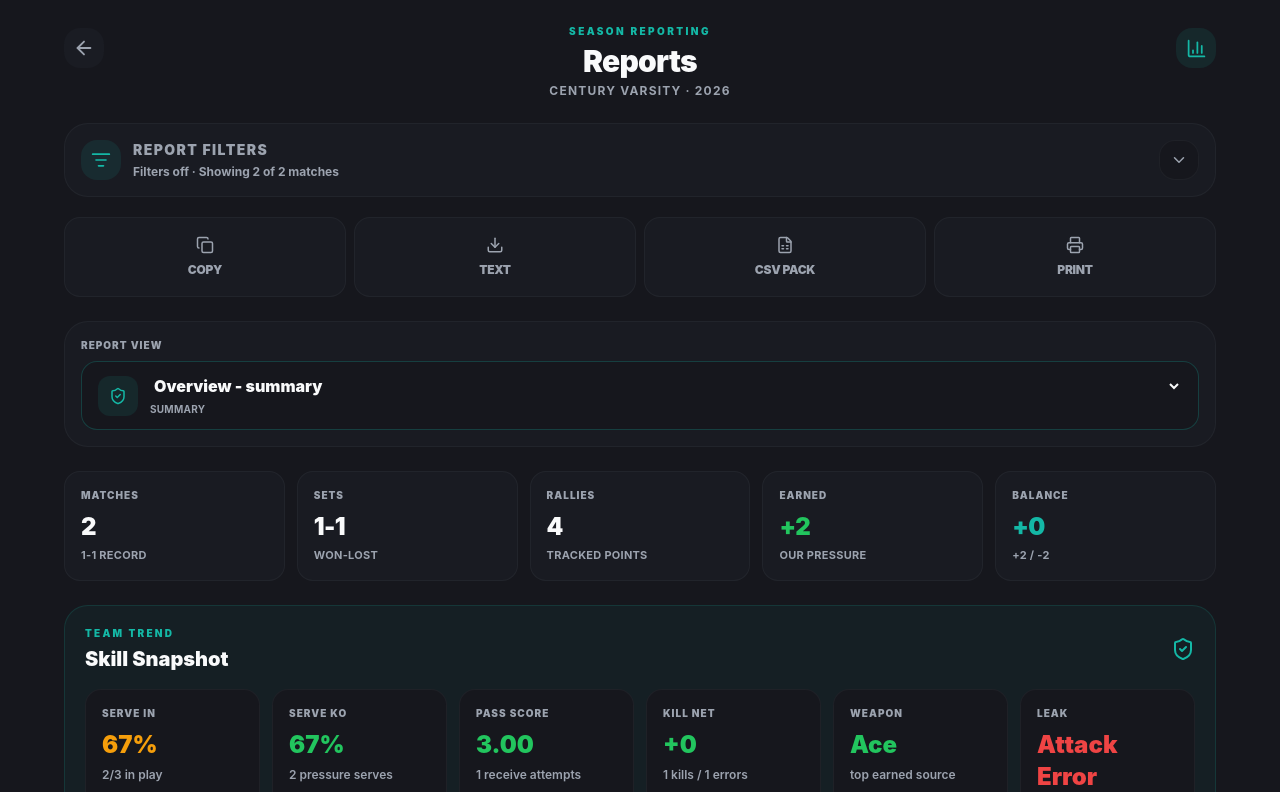
Scenario: Reports › keeps season filters collapsed until the scorer opens them
expect the heading "Reports" is shown: met, box 583,43 -> 697,79
expect the text "Filters off · Showing 2 of 2 matches" is shown: met, box 133,164 -> 339,180
Step 1. Click the button "Report Filters Filters off · Showing 2 of 2 matches" → (101, 160), box 81,140 -> 1147,180
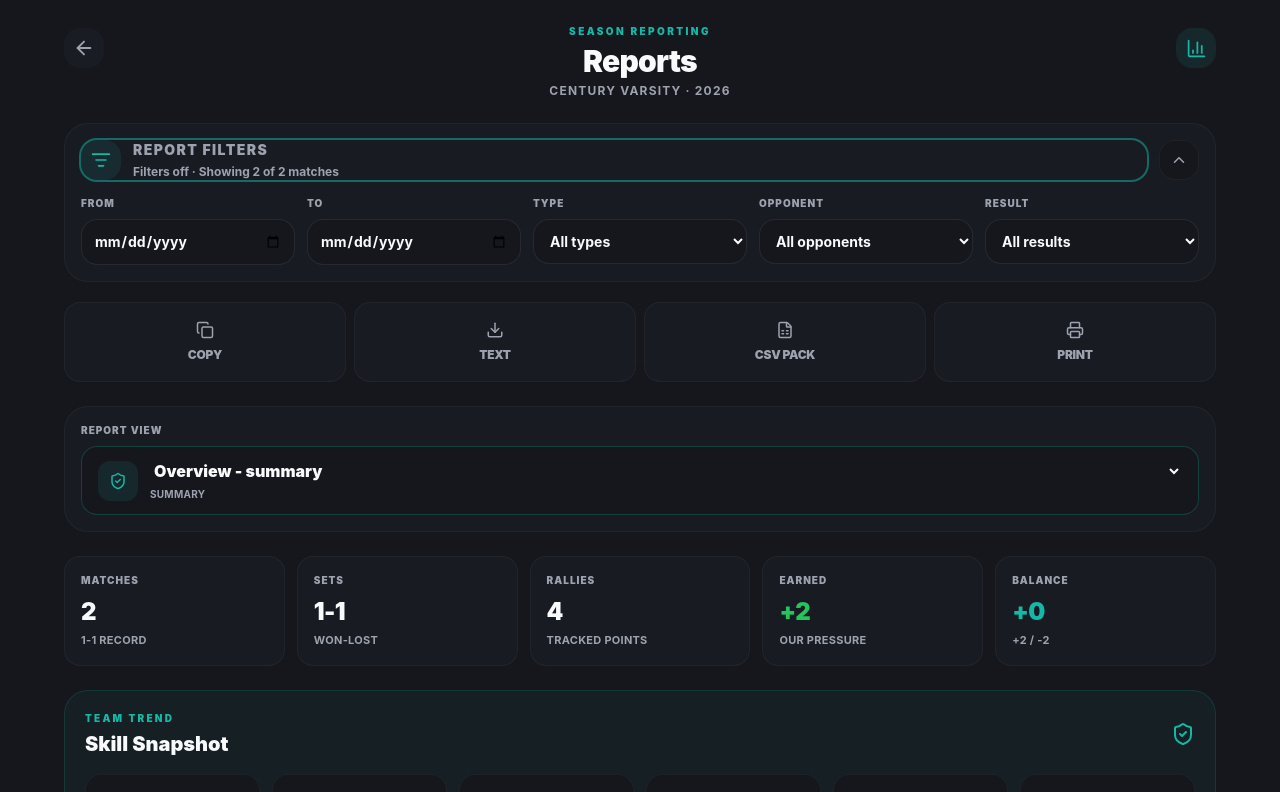
expect the button "Report Filters Filters off · Showing 2 of 2 matches" is expanded: met, box 81,140 -> 1147,180
